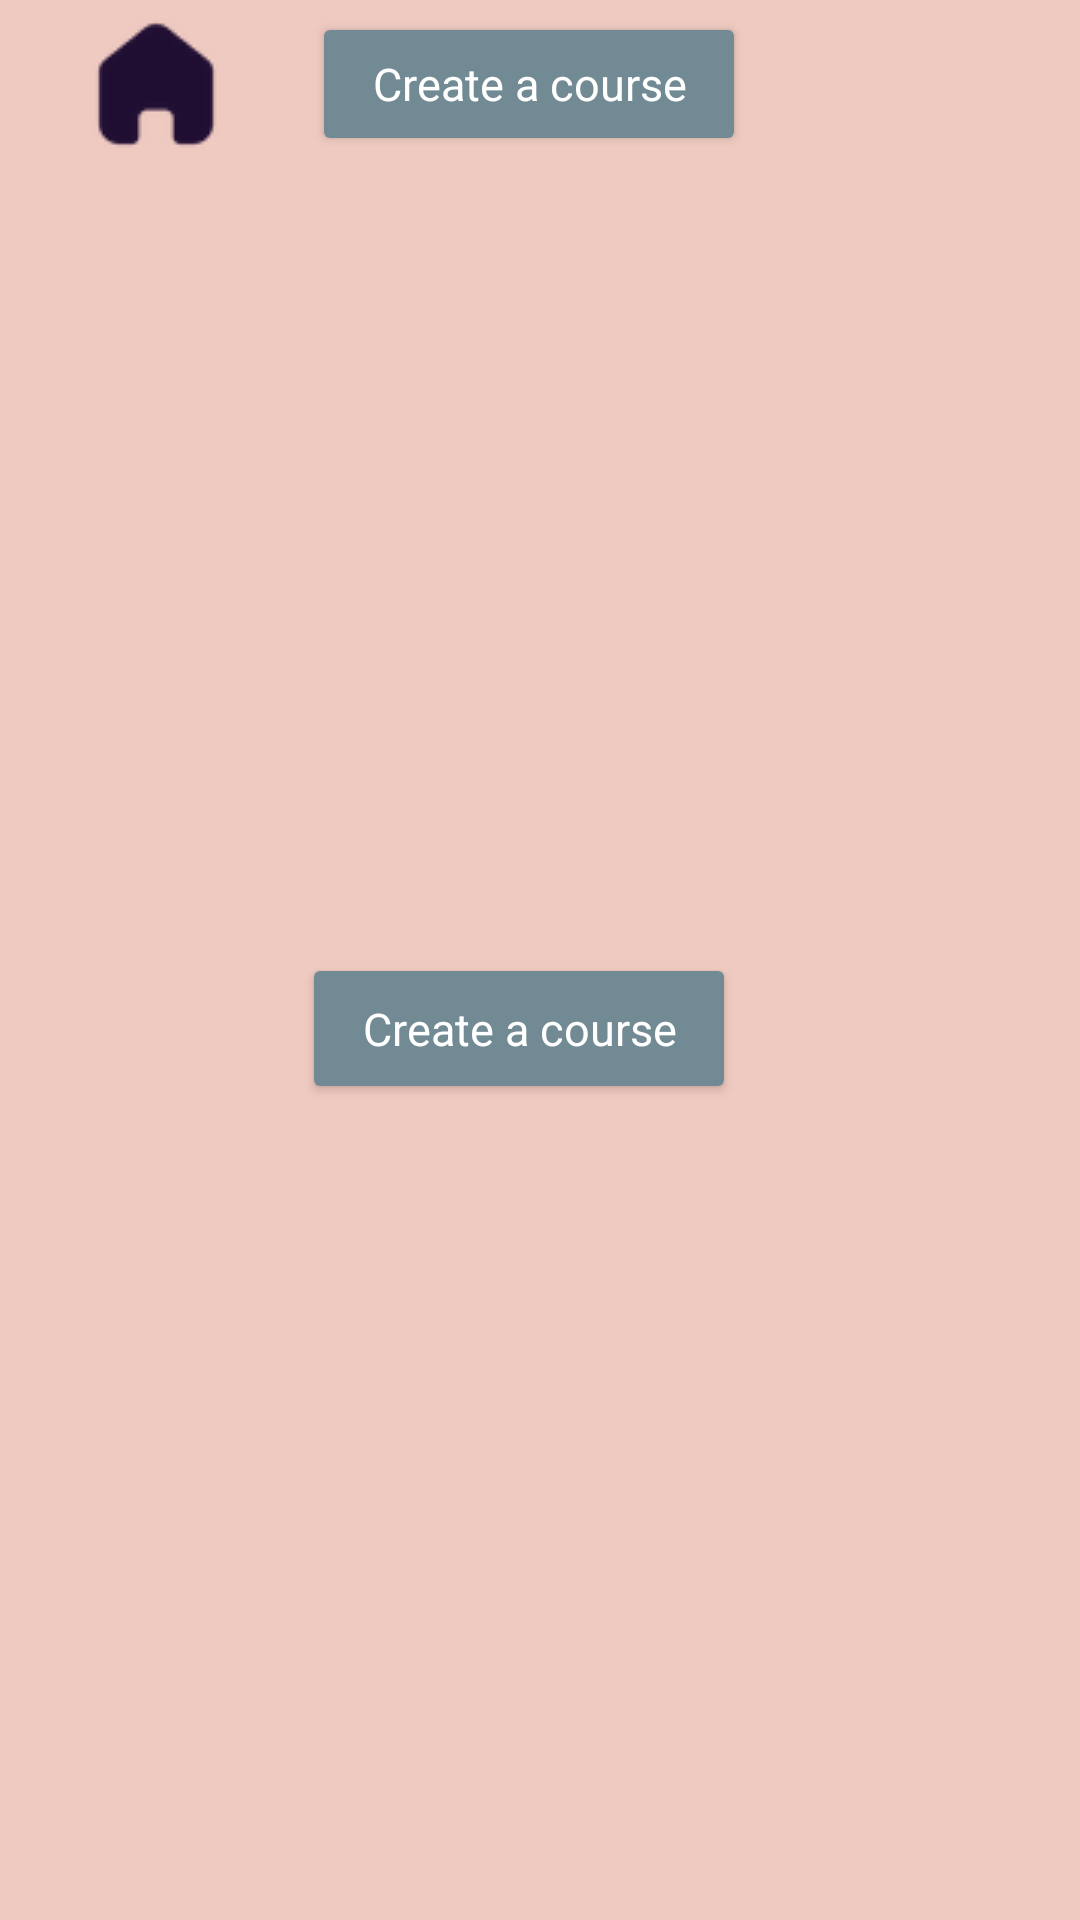

Where to tap for icons on this 1080px×1920px app screen, as (x=x, y=y):
home: (x=156, y=84)
